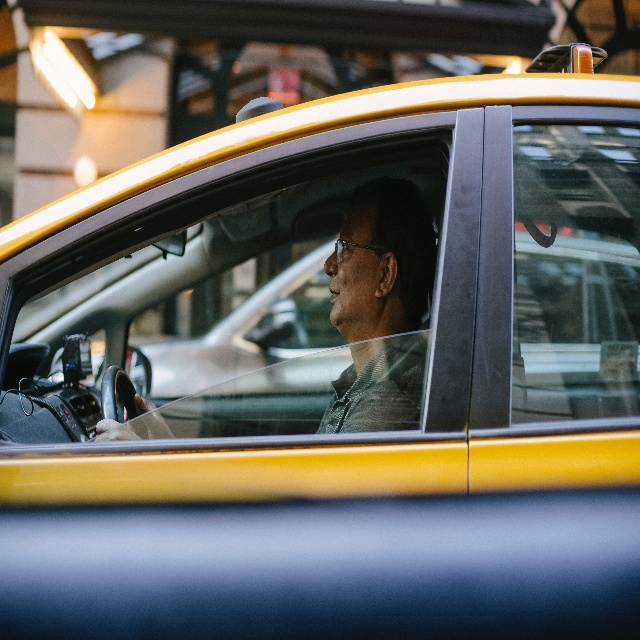Gafas: (334, 238, 384, 264)
Sin_guantes: (123, 394, 175, 440), (94, 417, 142, 442)
